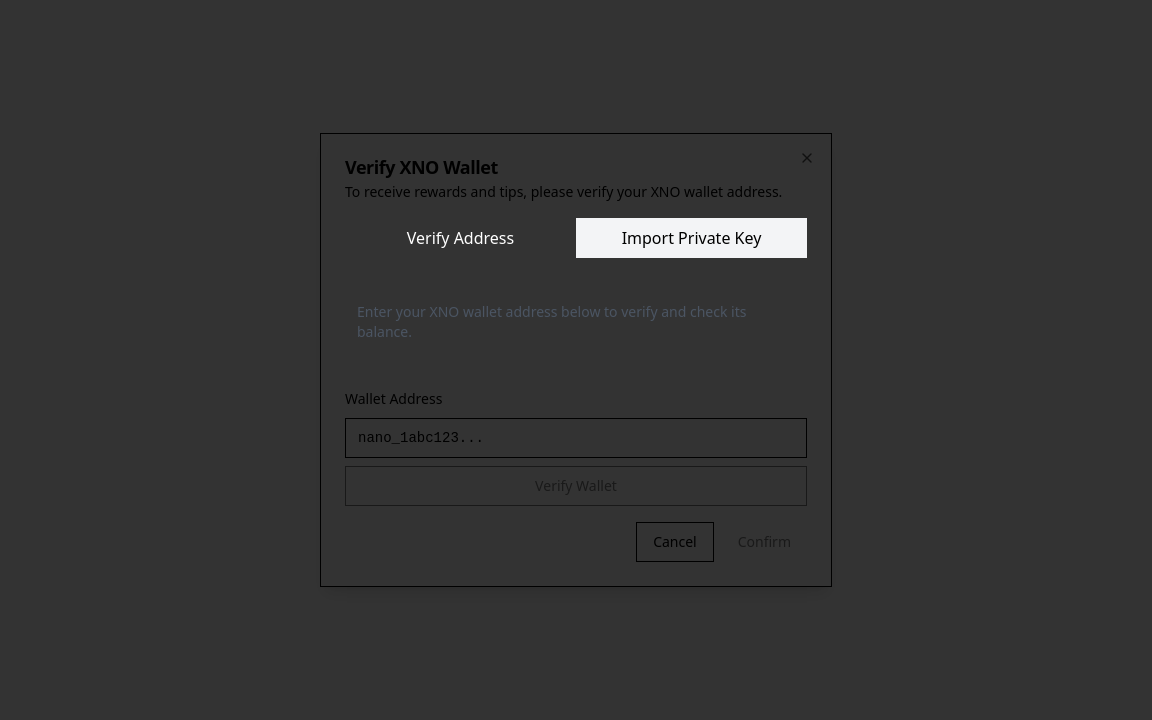
Test: WalletVerificationModal › should disable verify button if wallet is empty
Expected: the button "Verify Wallet" is disabled, [345,466,807,506]
Type "nano_test123" into the field labelled "Wallet Address".
click(576, 438); type("nano_test123")  # box [345,418,807,458]
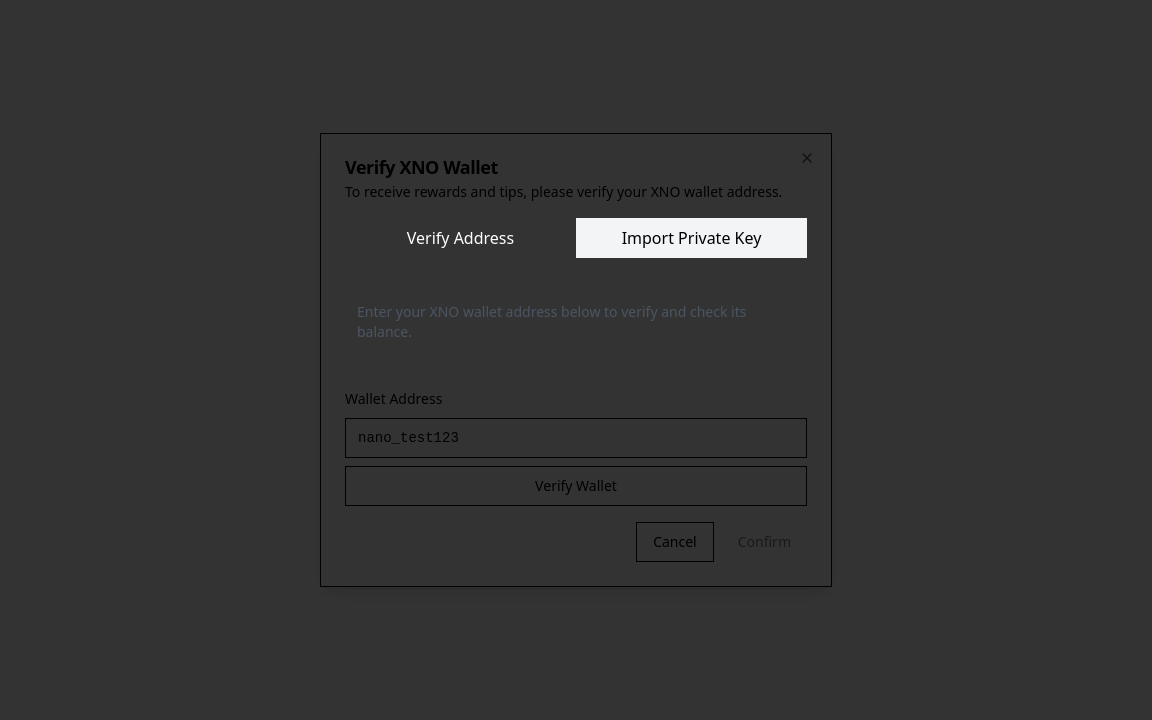
Expected: the button "Verify Wallet" is enabled, [345,466,807,506]
